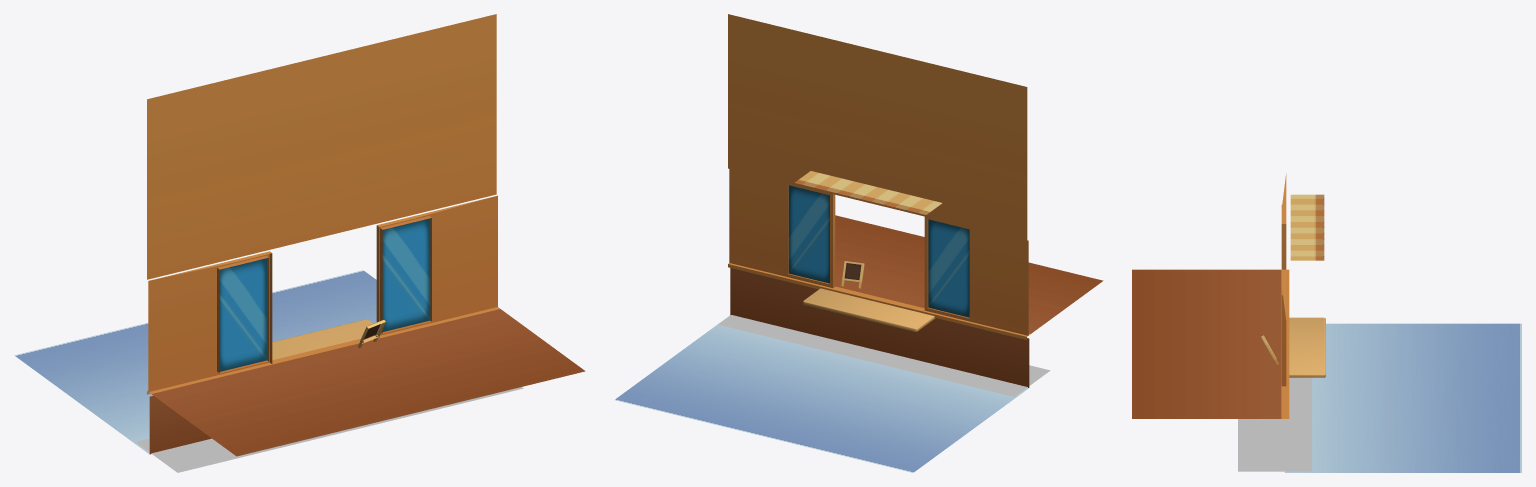
The model's file is Shop front.fbx.
3 views of the same model, side by side, from view 1: azimuth 30°, elevation 25°; view 2: azimuth 150°, elevation 25°; view 3: azimuth 270°, elevation 25° (orthographic). The views are drawn at different scales.
Parts seen in each view (by area): view 1: Base__1_, Base_S, Bar; view 2: Base__1_, Base_S, Bar, Capony; view 3: Base__1_, Base_S, Capony, Bar.
Part boxes in pixels (x1,y1,x2,y2): Base__1_: (14, 14, 585, 456); Base_S: (136, 387, 523, 472); Bar: (272, 319, 373, 359); Base__1_: (615, 14, 1103, 472); Base_S: (718, 315, 1050, 396); Bar: (803, 288, 935, 331); Capony: (794, 171, 942, 214); Base__1_: (1132, 173, 1521, 472); Base_S: (1238, 377, 1311, 471); Capony: (1290, 194, 1324, 260); Bar: (1289, 317, 1325, 377).
Size of the model in its own units: 2858 by 2761 by 3149.
